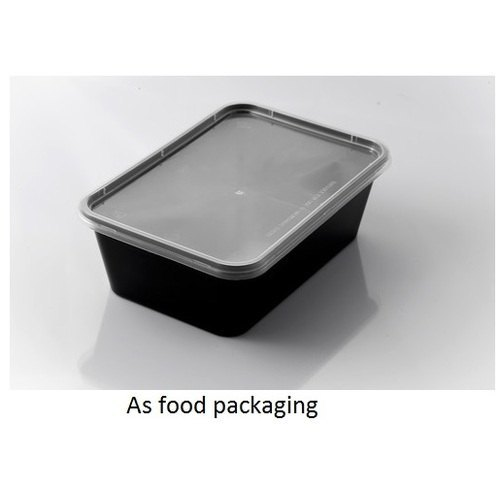PlasticBox: (76, 99, 393, 342)
